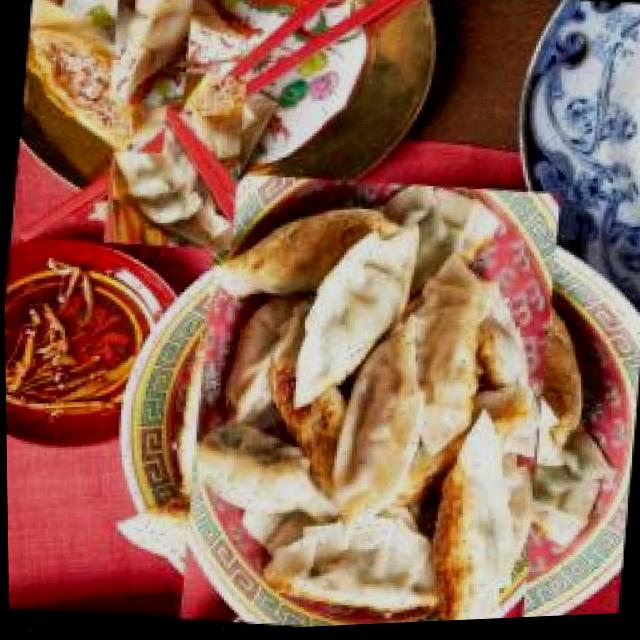fried_dumplings: (137, 191, 595, 635), (91, 76, 258, 250), (18, 19, 175, 162), (83, 0, 224, 87)
